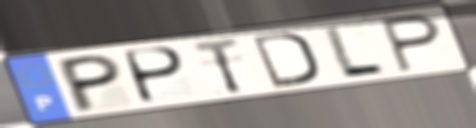D: (248, 30, 321, 90)
L: (320, 24, 390, 78)
P: (378, 12, 445, 75), (58, 52, 123, 116), (123, 45, 190, 106)
T: (189, 35, 246, 97)
